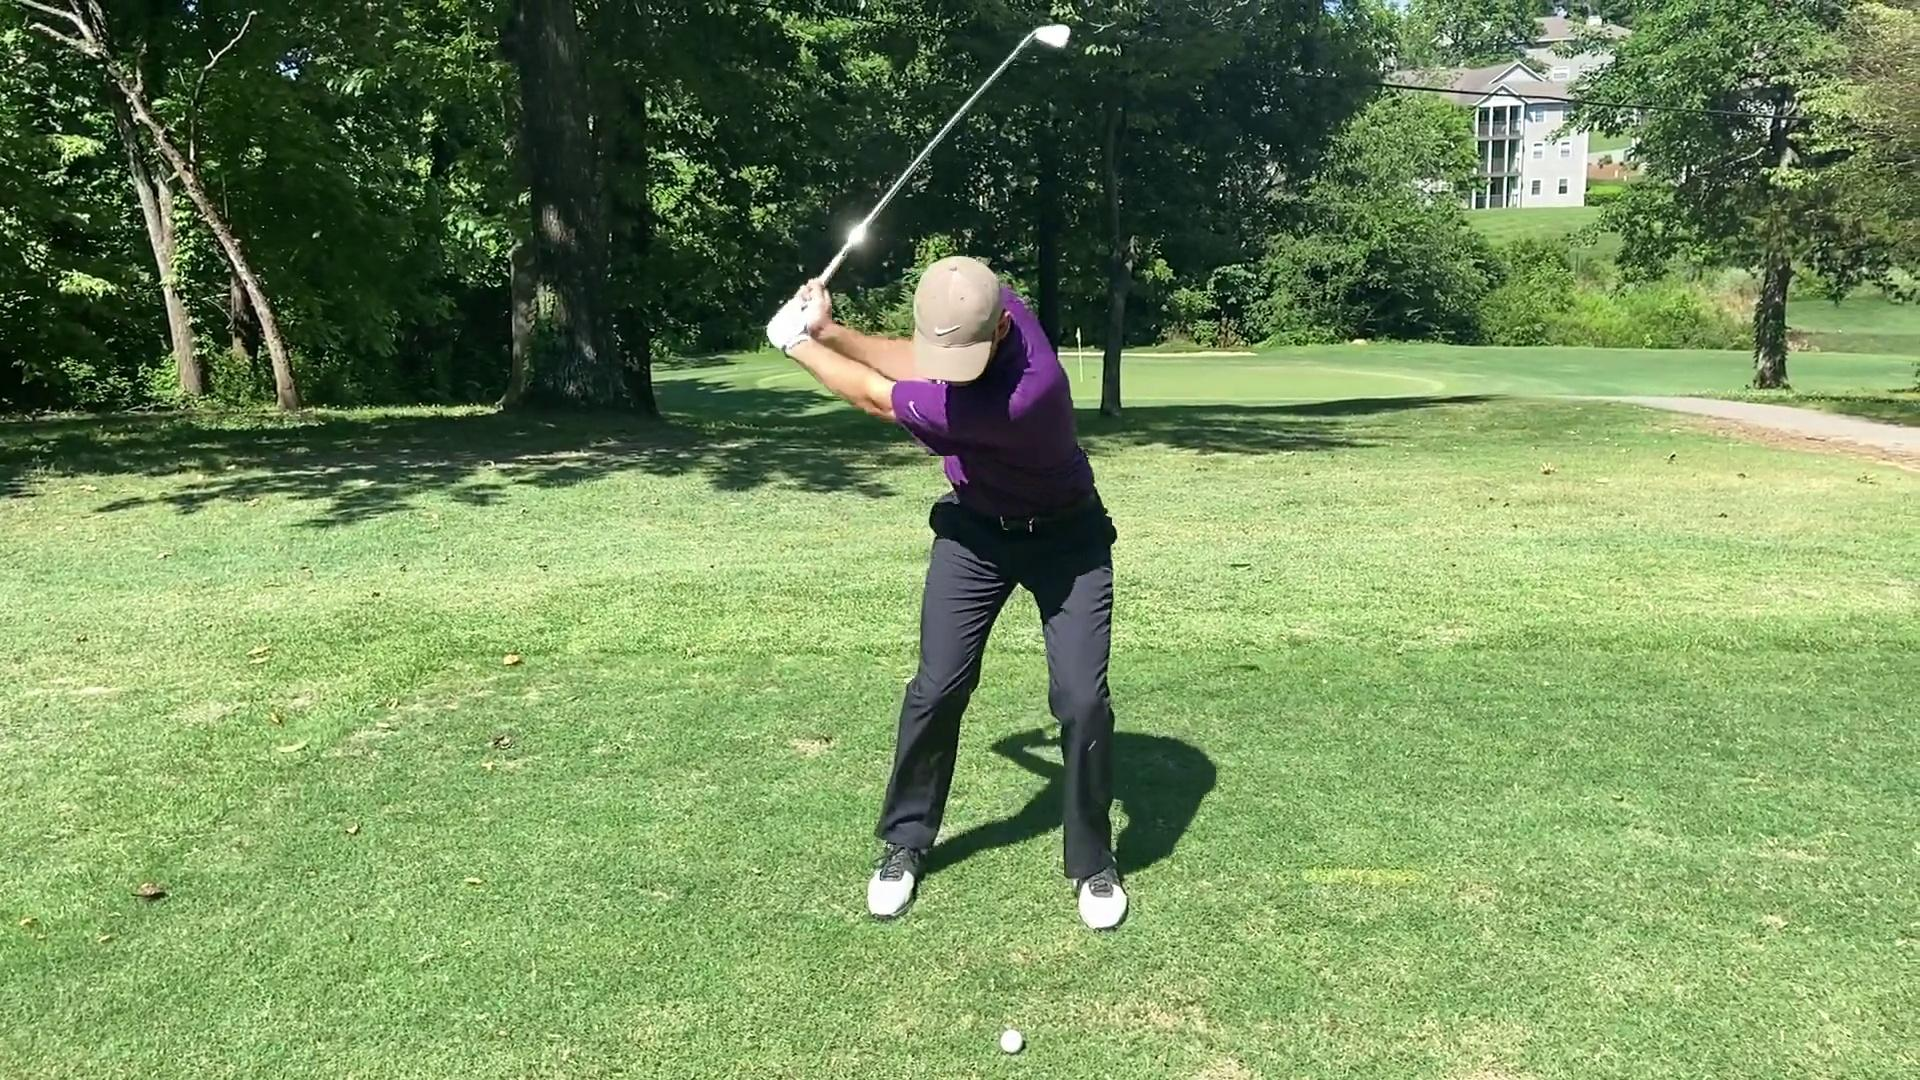ClubHead: (1023, 22, 1071, 57)
GolfBall: (1000, 1027, 1025, 1055)
